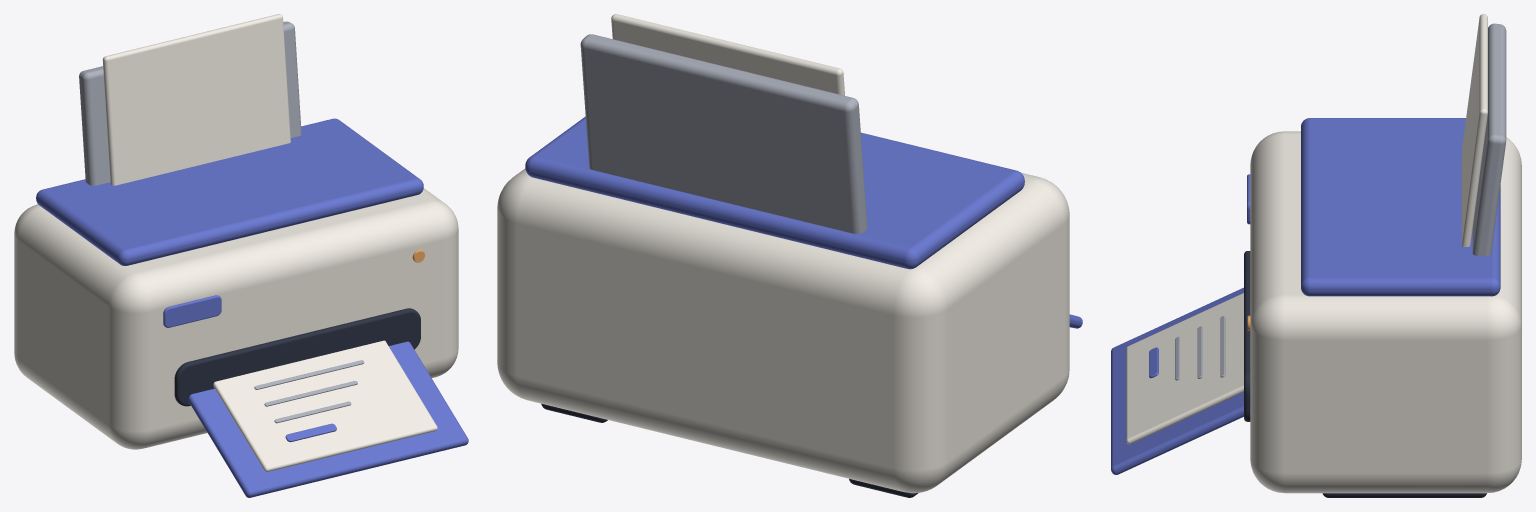
The model's file is paper-printer.glb.
The picture shows the model from 3 angles, left to right: view 1: azimuth 30°, elevation 25°; view 2: azimuth 150°, elevation 25°; view 3: azimuth 270°, elevation 25°; orthographic projection. The views are drawn at different scales.
Parts seen in each view (by area): view 1: paper-printer; view 2: paper-printer; view 3: paper-printer.
Part boxes in pixels (x1,y1,x2,y2): paper-printer: [14, 14, 468, 497]; paper-printer: [497, 14, 1082, 497]; paper-printer: [1111, 14, 1521, 497].
Size of the model in its own units: 1.68 by 1.49 by 1.54.
